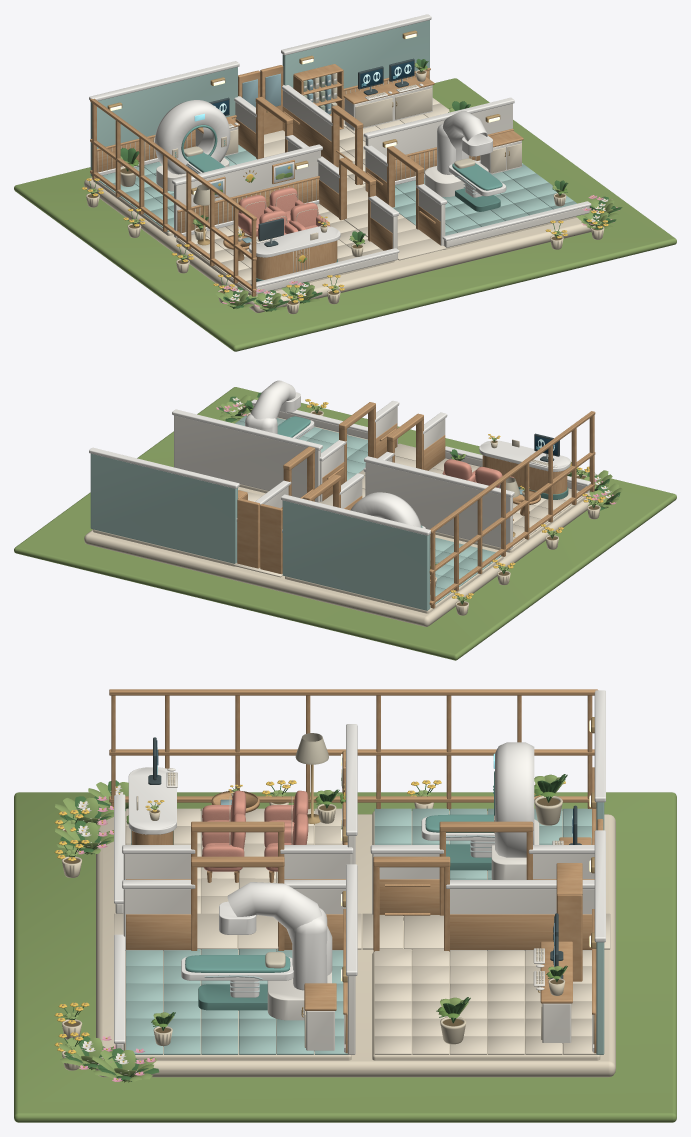
The model's file is hospital-interior.glb.
The picture shows the model from 3 angles, top to bottom: view 1: azimuth 30°, elevation 25°; view 2: azimuth 150°, elevation 25°; view 3: azimuth 270°, elevation 25°; orthographic projection. The views are drawn at different scales.
Visible parts, largest first — view 1: hospital-interior; view 2: hospital-interior; view 3: hospital-interior.
Boxes of the visible parts, x1,y1,x2,y2 form: hospital-interior: [14, 14, 676, 351]; hospital-interior: [14, 380, 676, 660]; hospital-interior: [14, 689, 676, 1122].
Size of the model in its own units: 18.5 by 3.96 by 16.
26 materials, 3 textured.
